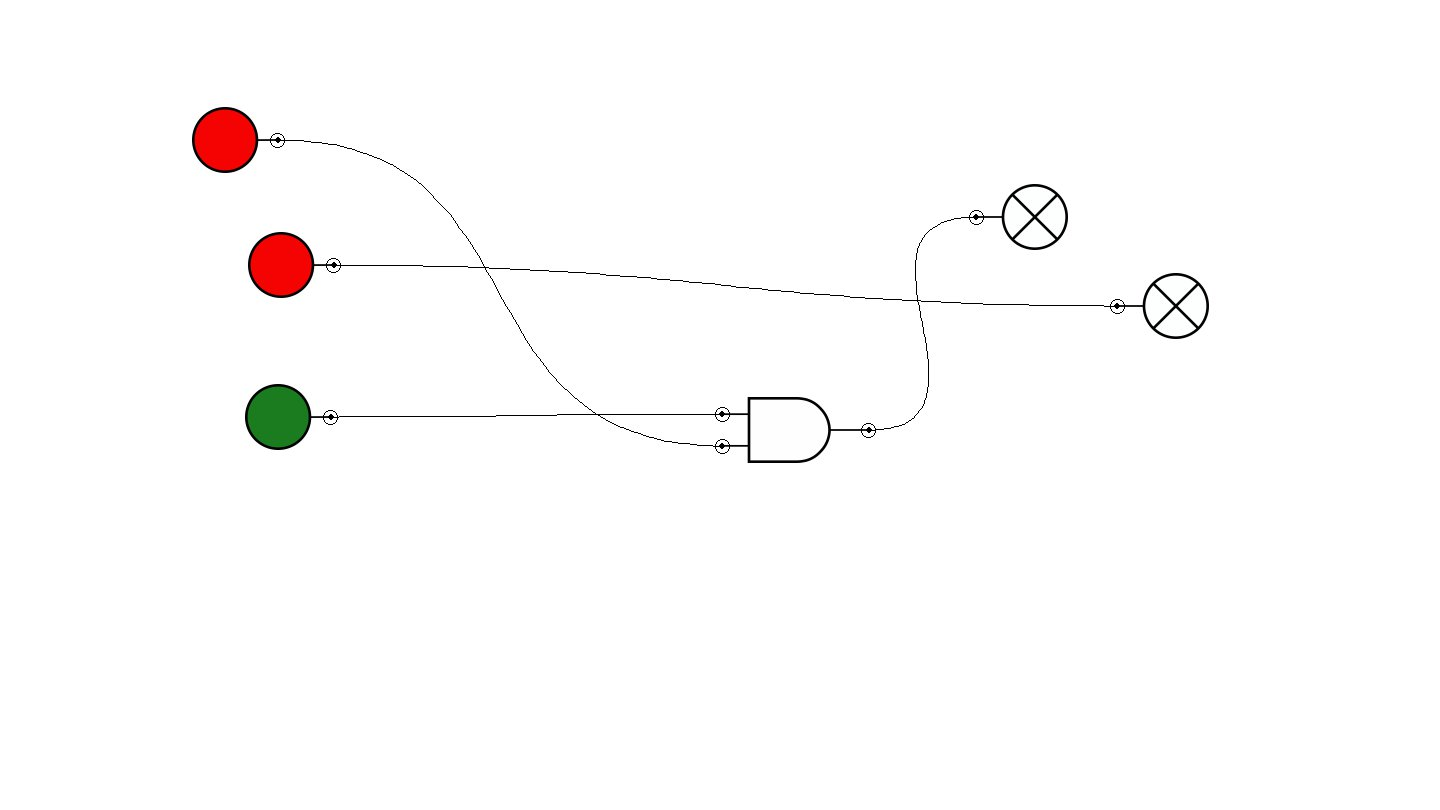and: (715, 397, 876, 463)
bulb: (969, 184, 1068, 250), (1110, 273, 1209, 339)
switch_False: (248, 232, 341, 298), (192, 107, 285, 173)
switch_True: (245, 384, 338, 450)
